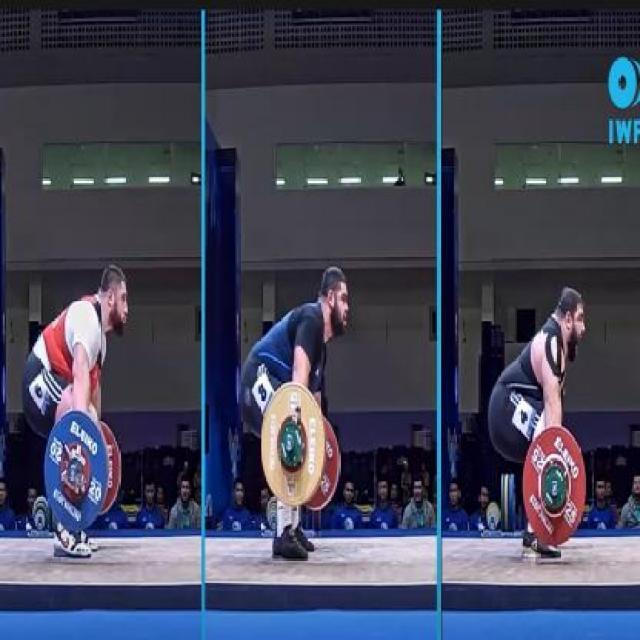Barbell: (282, 432, 296, 454), (548, 477, 561, 500), (68, 462, 78, 484)
